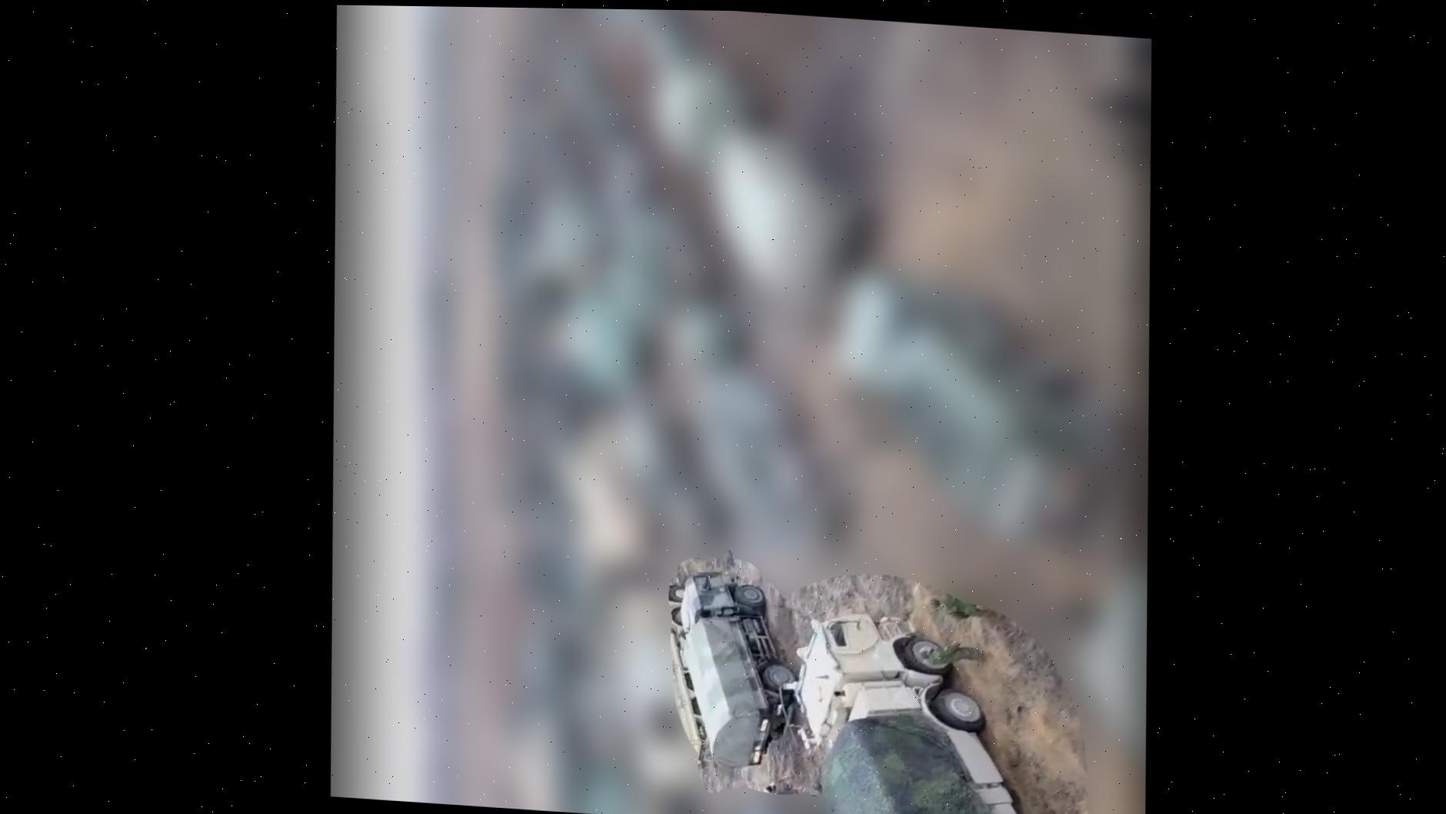truck: (786, 604, 1131, 814), (669, 564, 808, 773)
